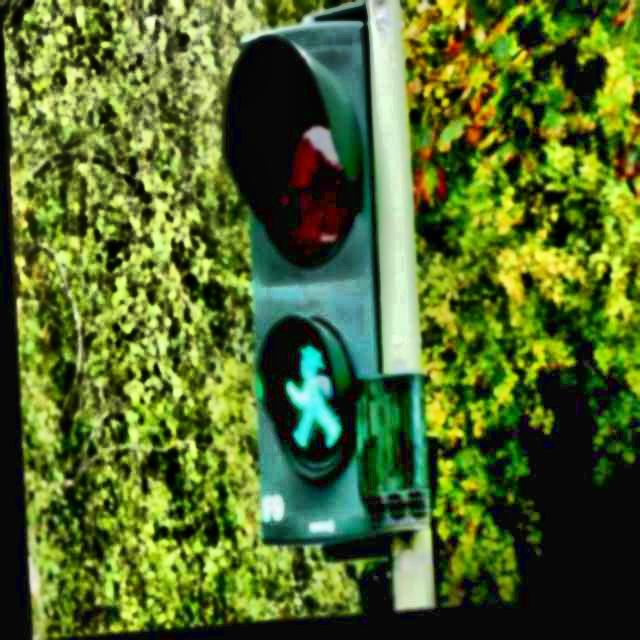semaforo pedestre: (129, 0, 459, 578), (228, 302, 348, 498)
